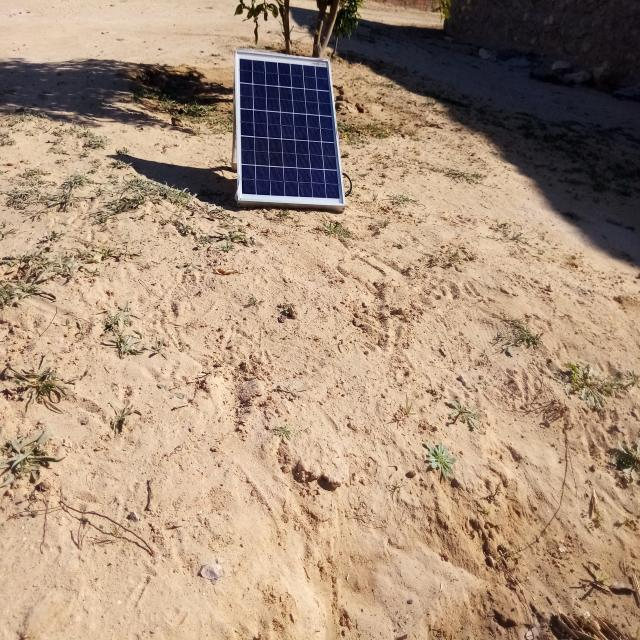no faulty: (235, 50, 345, 204)
